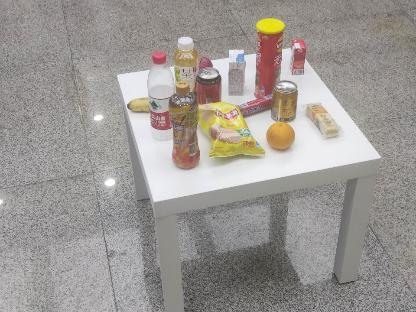Can: (270, 80, 298, 123), (198, 66, 222, 104)
Others: (254, 19, 286, 102), (226, 47, 245, 98), (289, 38, 307, 76)
Plastic Bottle: (140, 48, 176, 142)
